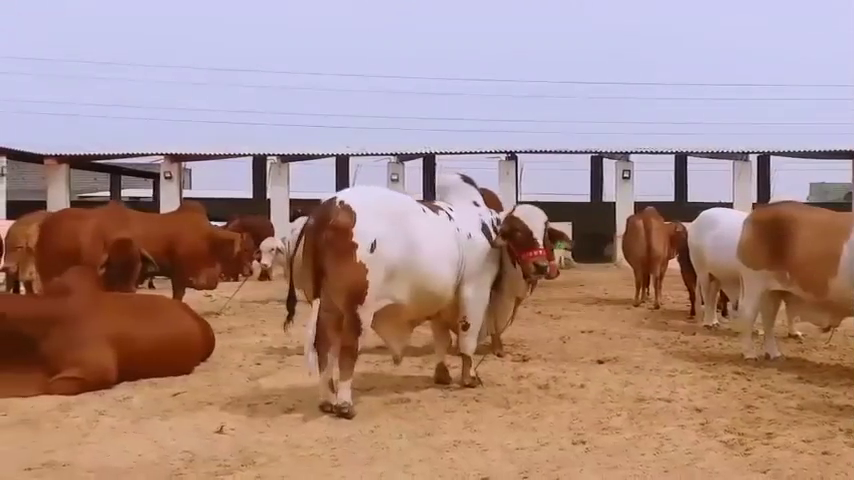bo: (290, 170, 582, 441), (2, 267, 223, 411), (733, 183, 851, 373), (118, 188, 257, 318), (22, 199, 152, 293), (611, 178, 682, 315), (687, 196, 755, 331), (248, 223, 294, 290), (2, 208, 43, 283), (535, 228, 568, 300)
